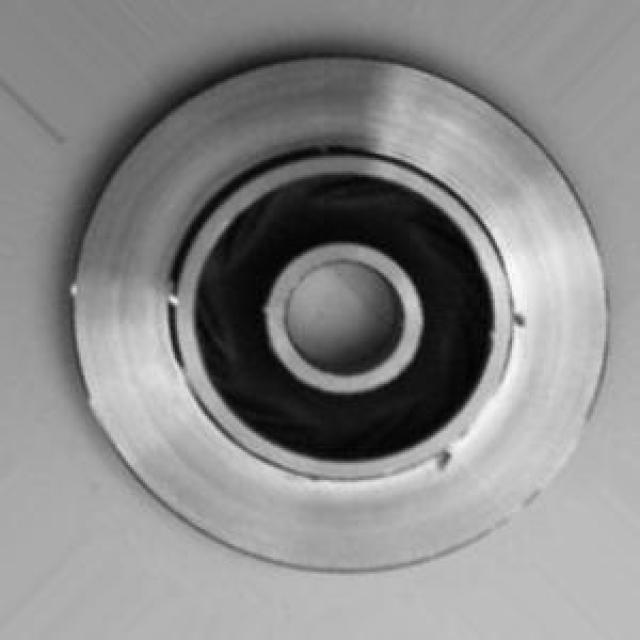Defect: (492, 286, 542, 343)
